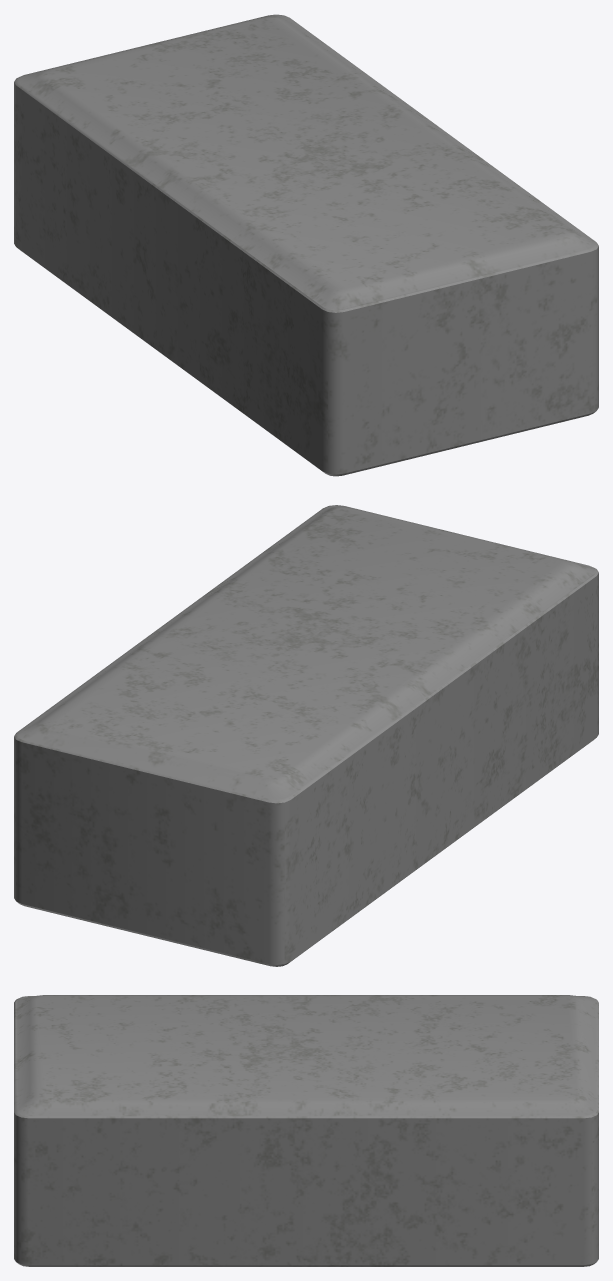
File: col_classic-grey.glb
The picture shows the model from 3 angles, top to bottom: view 1: azimuth 30°, elevation 25°; view 2: azimuth 150°, elevation 25°; view 3: azimuth 270°, elevation 25°; orthographic projection. The views are drawn at different scales.
Visible parts, largest first — view 1: Colonial Classic.029; view 2: Colonial Classic.029; view 3: Colonial Classic.029.
Part boxes in pixels (x1,y1,x2,y2): Colonial Classic.029: (14, 14, 598, 476); Colonial Classic.029: (14, 505, 598, 966); Colonial Classic.029: (14, 995, 598, 1266).
Bounding box in the file's own units: 0.0984 × 0.0603 × 0.2.
Materials: 1 (1 with a texture image).
